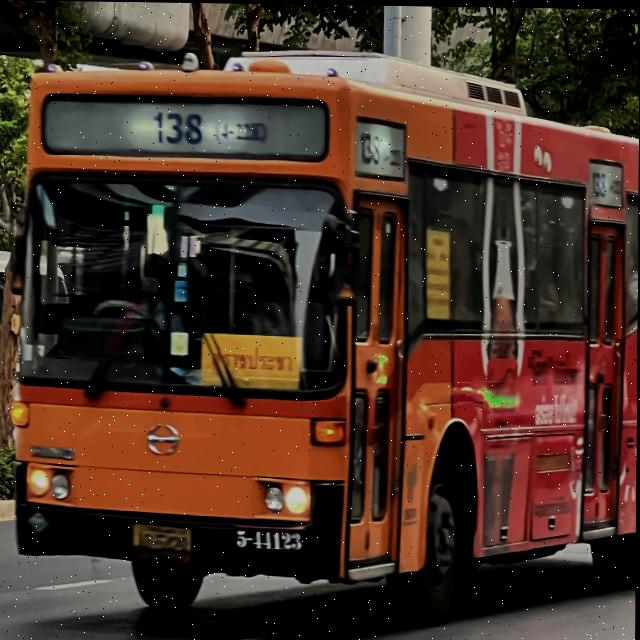BMTA-bus: (0, 31, 640, 632)
Bus-Line-Number: (146, 103, 276, 149)
Destination-Sign-Normal-Expressway: (199, 331, 301, 387)
